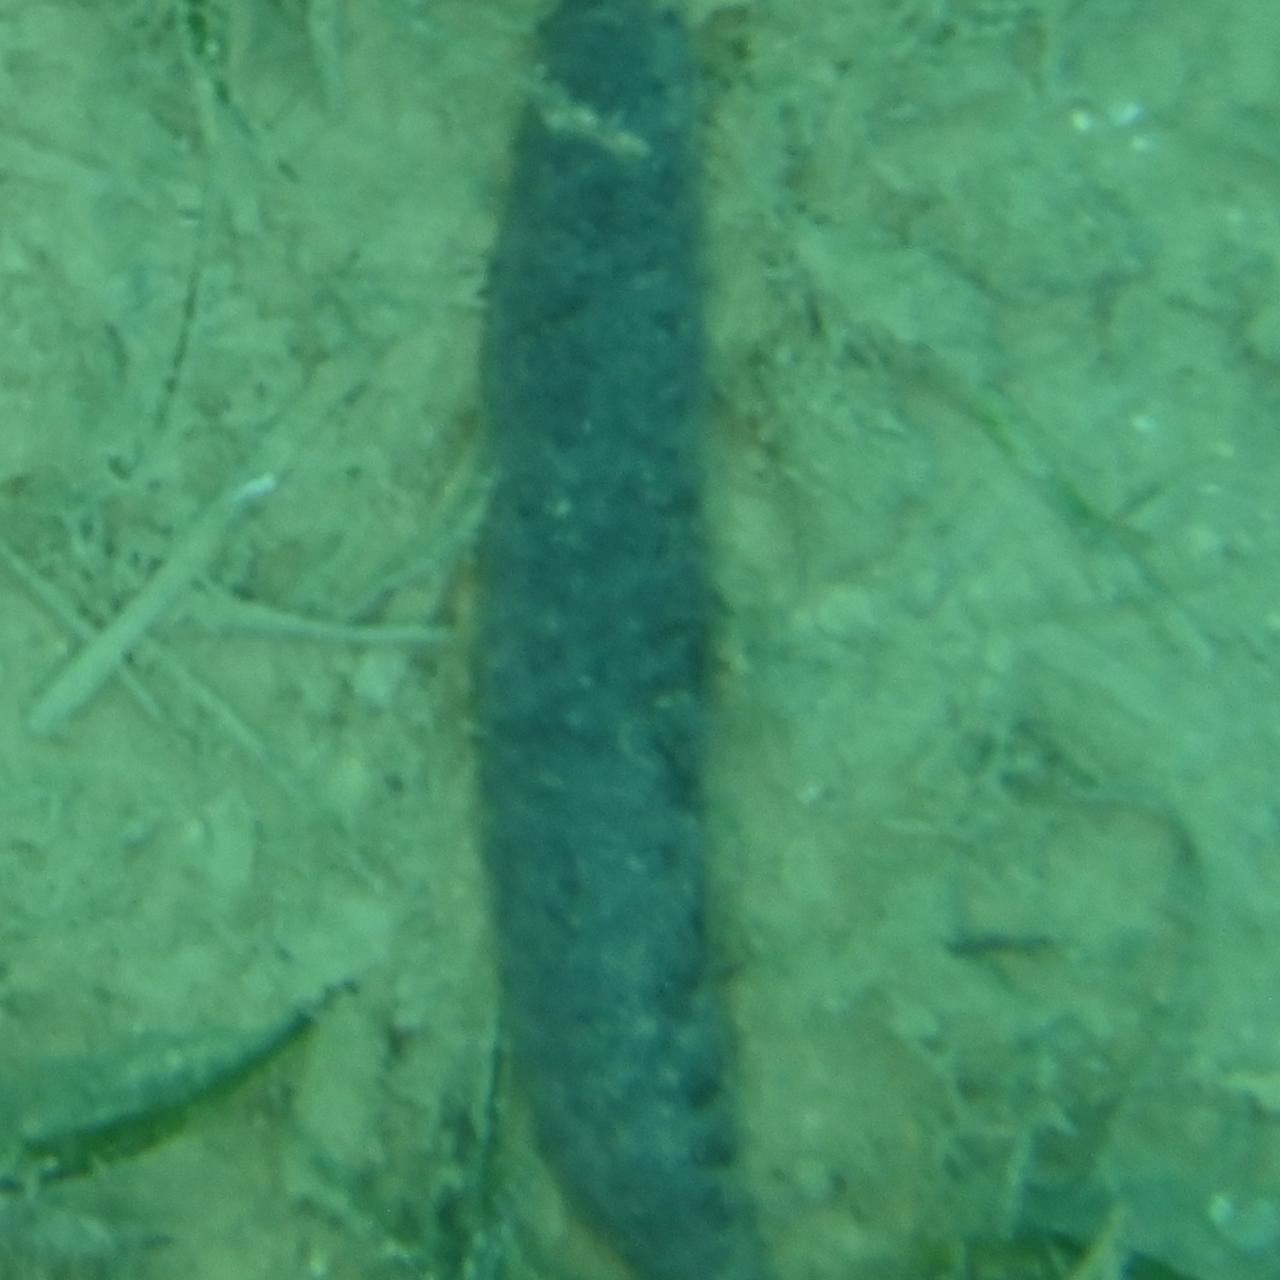Holothuria tubulosa: (466, 0, 814, 1280)
